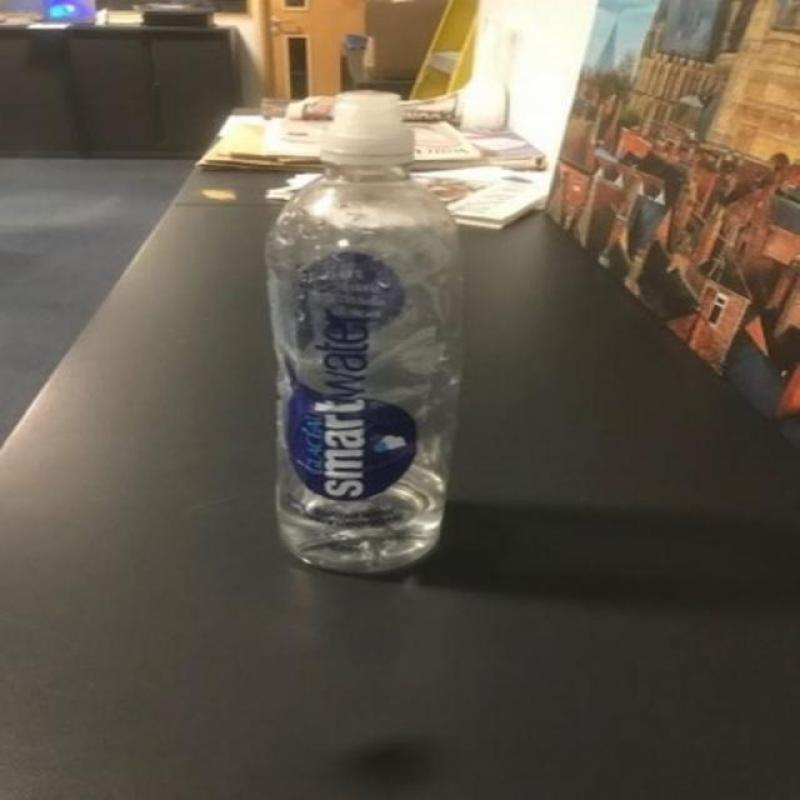botella: (264, 90, 464, 574)
